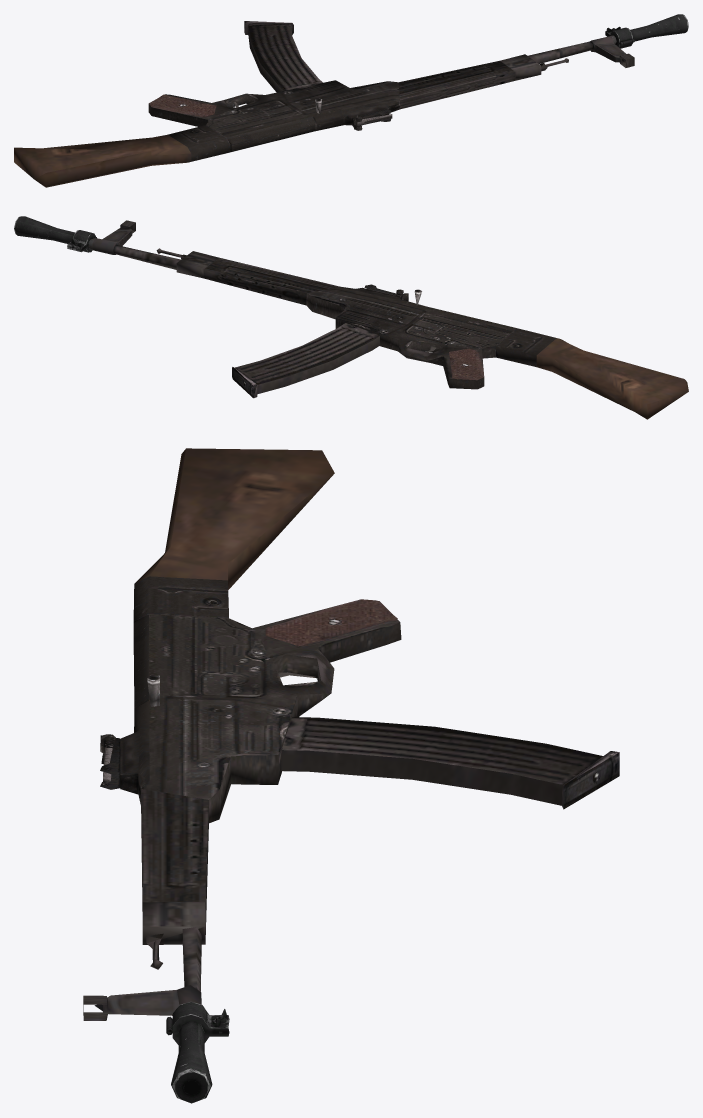
Rendered from weapon_ger_mp44_lmg_silent_LOD11.obj.
3 views of the same model, one above another, from view 1: azimuth 30°, elevation 25°; view 2: azimuth 150°, elevation 25°; view 3: azimuth 270°, elevation 25° (orthographic). The views are drawn at different scales.
Parts seen in each view (by area): view 1: TomGroup_0, TomGroup_1, TomGroup_2; view 2: TomGroup_0, TomGroup_1, TomGroup_2; view 3: TomGroup_0, TomGroup_1, TomGroup_2.
Boxes of the visible parts, bbox=[...] form: TomGroup_0: bbox=[148, 21, 634, 161]; TomGroup_1: bbox=[14, 94, 216, 187]; TomGroup_2: bbox=[605, 14, 688, 48]; TomGroup_0: bbox=[88, 220, 556, 398]; TomGroup_1: bbox=[449, 338, 688, 419]; TomGroup_2: bbox=[14, 216, 96, 252]; TomGroup_0: bbox=[83, 576, 619, 1020]; TomGroup_1: bbox=[135, 448, 397, 646]; TomGroup_2: bbox=[166, 1001, 229, 1103].
Bounding box in the file's own units: 104 × 4.75 × 37.33.
Materials: 3 (3 with a texture image).
